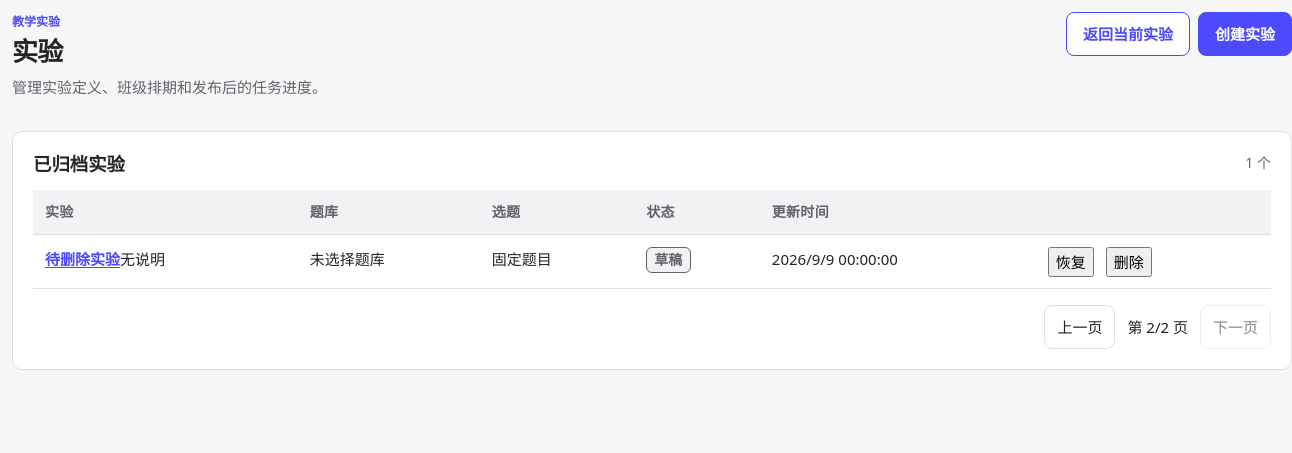
Test case: TeacherExperimentList deletion › keeps restoration failures visible and does not offer restoration without permission
The width and height of the screenshot is (1292, 453).
Click the button "恢复": click(1071, 262) [1048,247,1094,277]
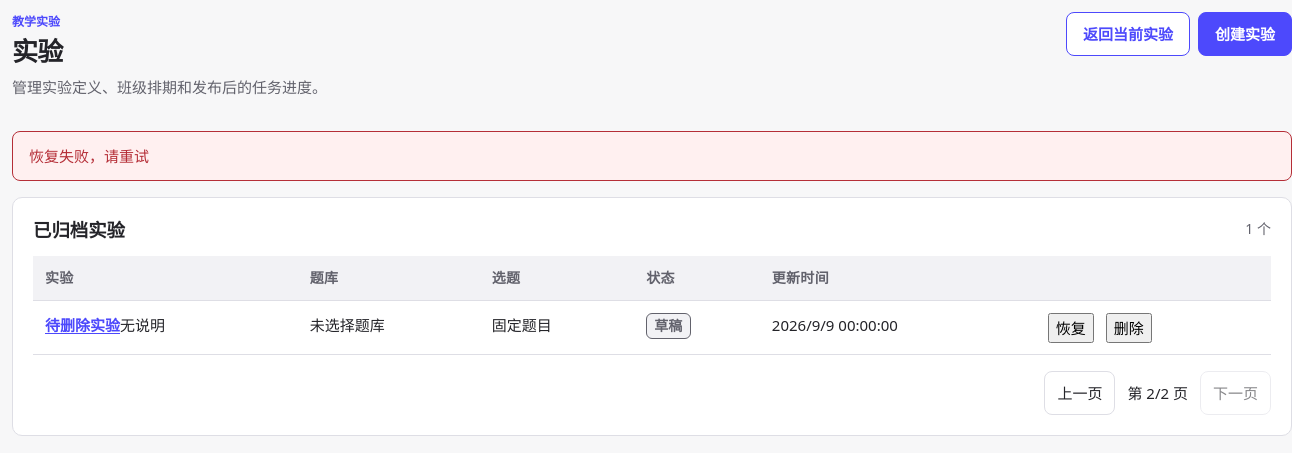
Result: the message "恢复失败，请重试" is shown at [12,131,1291,181]
